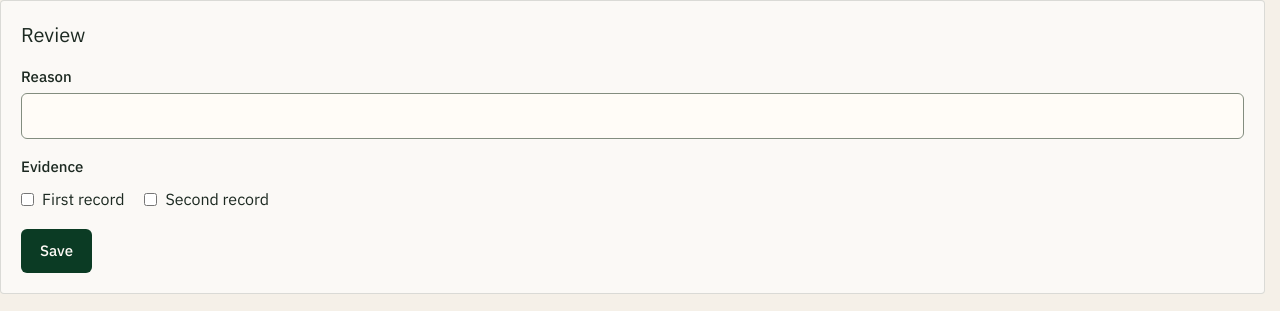
Test: submits visible director choices and exposes server errors without losing the form
The width and height of the screenshot is (1280, 311).
Type "A reviewed reason" into the field labelled "Reason" at (632, 116), box [21,93,1244,139]
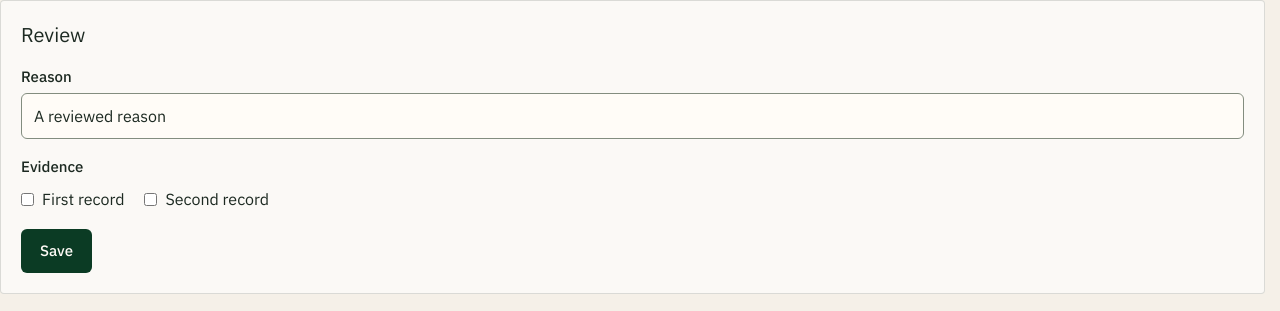
Click the checkbox labelled "First record" at (28, 200), box [21,193,34,206]
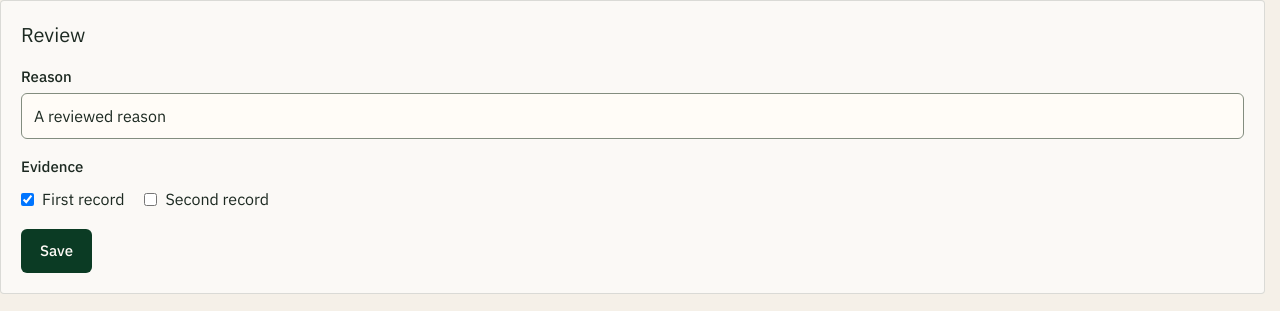
Click the button "Save" at (56, 251), box [21,229,92,273]
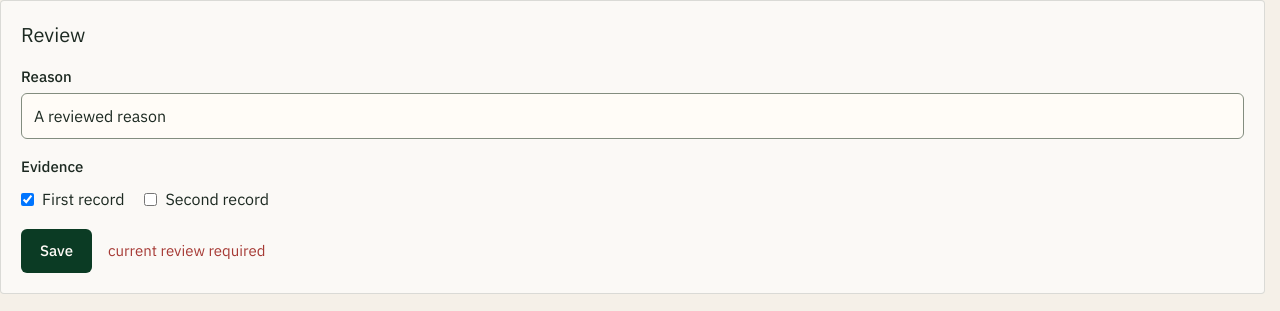
Result: the message reads "current review required" at [108,241,266,260]
